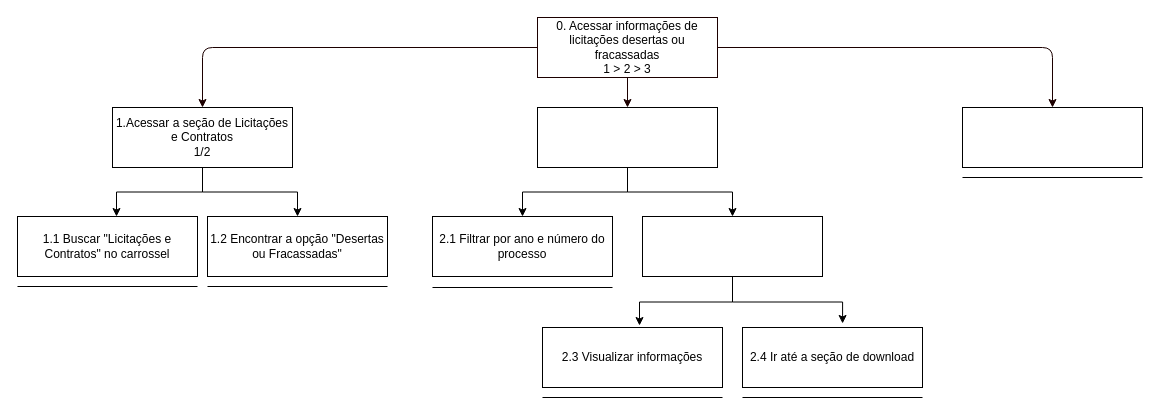
Image size: 1161x416. Some labels were removed from this diagram. Here are the shapes that lost their labels. From the top down, the box of each, then its label:
(536, 106, 718, 168): 2. Filtrar resultados das licitações 1/2
(962, 106, 1142, 168): Fazer download do PDF
(642, 216, 822, 276): 2.2 Clicar em "Detalhar" na licitação desejada.
